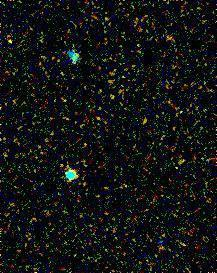star: (0, 23, 24, 53)
